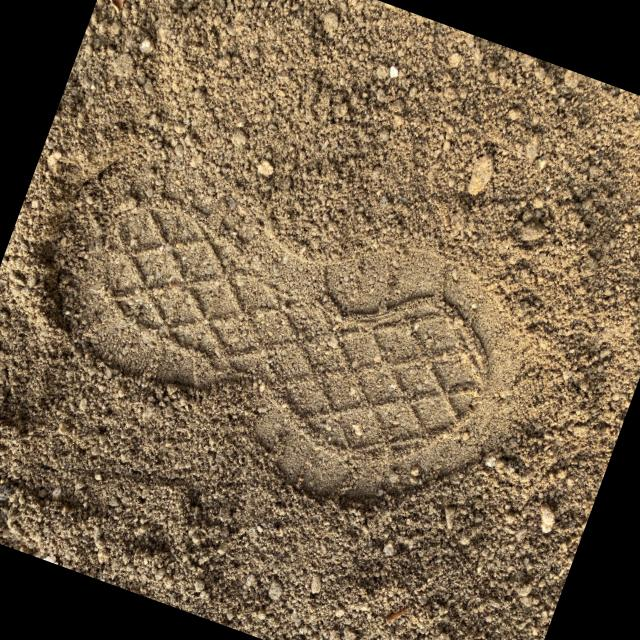human_footprint: (23, 146, 579, 528)
